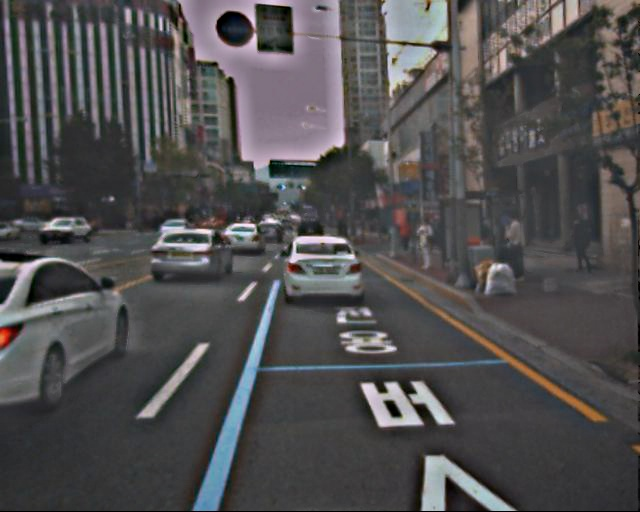person: (498, 211, 528, 285), (565, 217, 590, 279), (413, 218, 434, 270), (395, 218, 410, 254)
